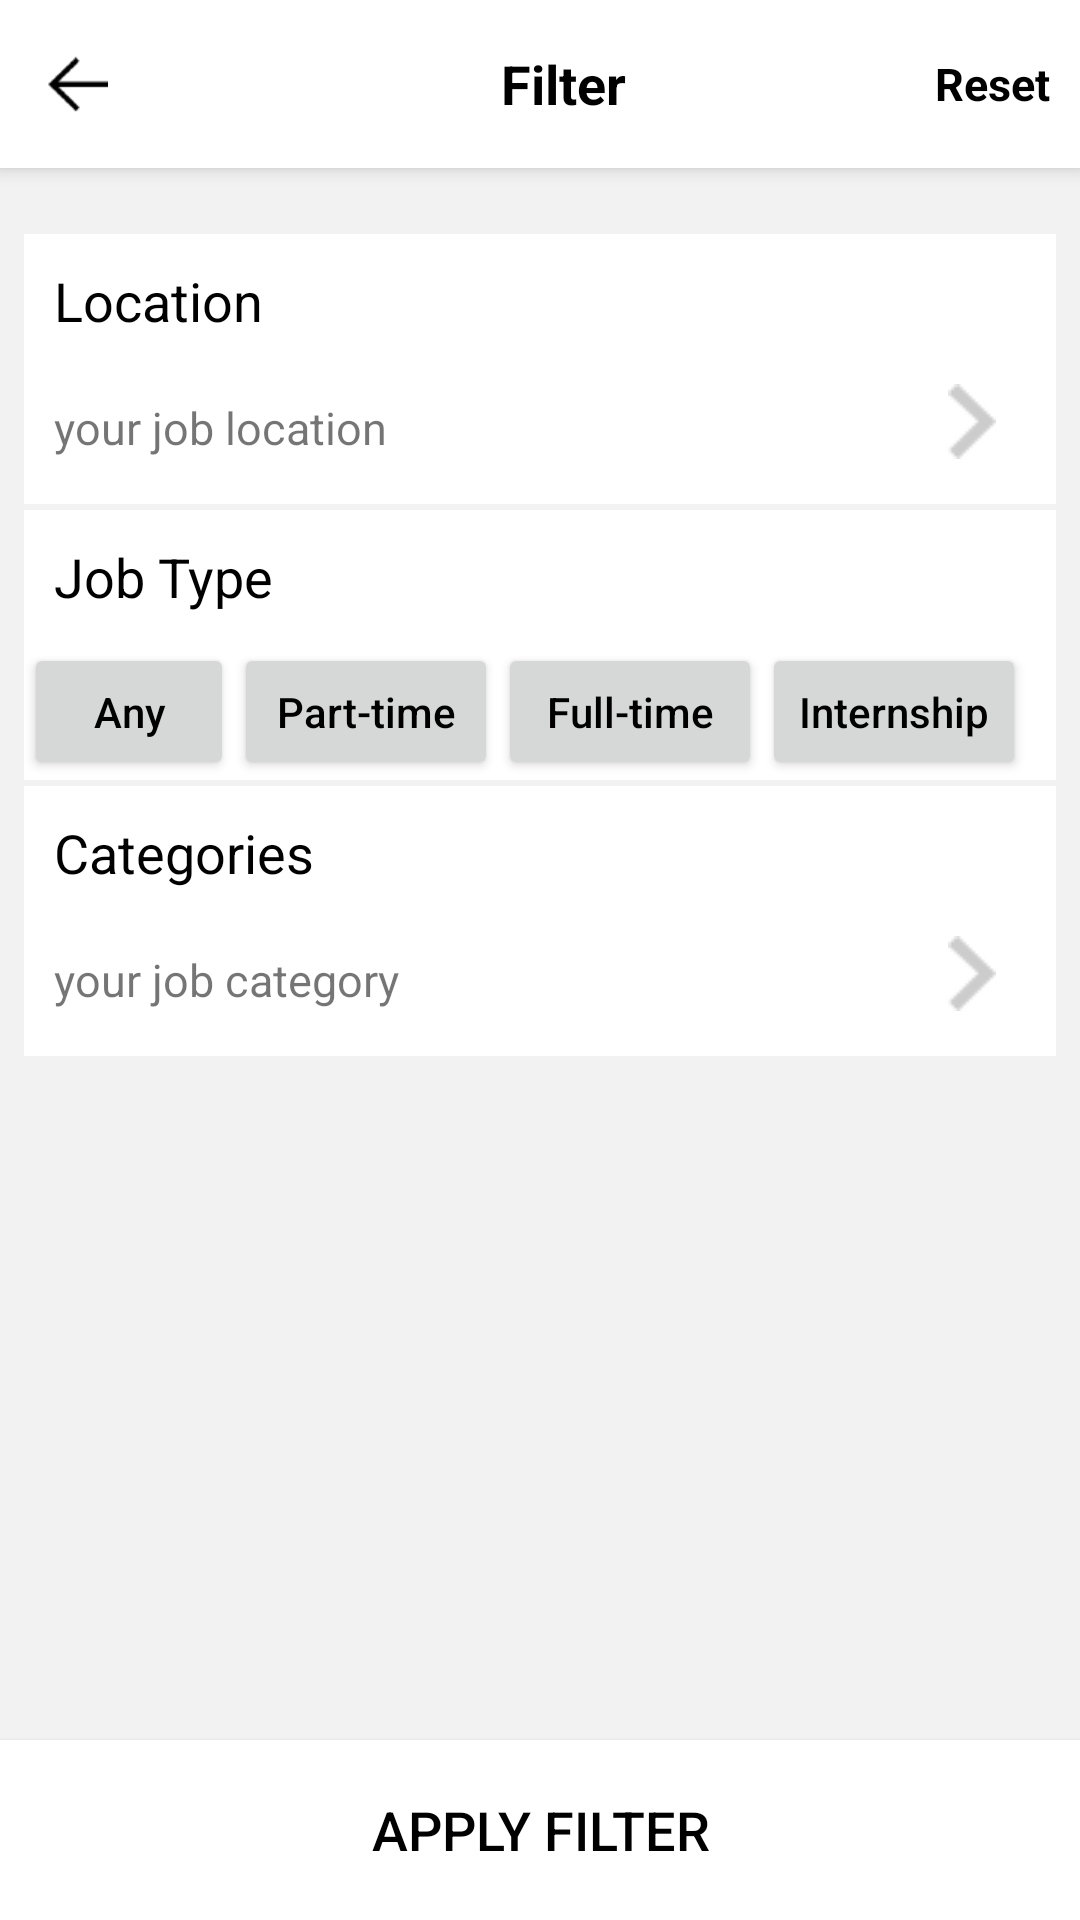

Icon bounding boxes for this 1080x1920 phone screenshot, format (x1, y1, x2, y2):
back arrow: (48, 57, 108, 112)
next: (948, 384, 996, 459), (948, 936, 996, 1011)
